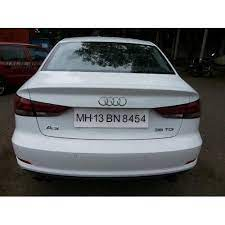number_plate: (70, 106, 154, 133)
